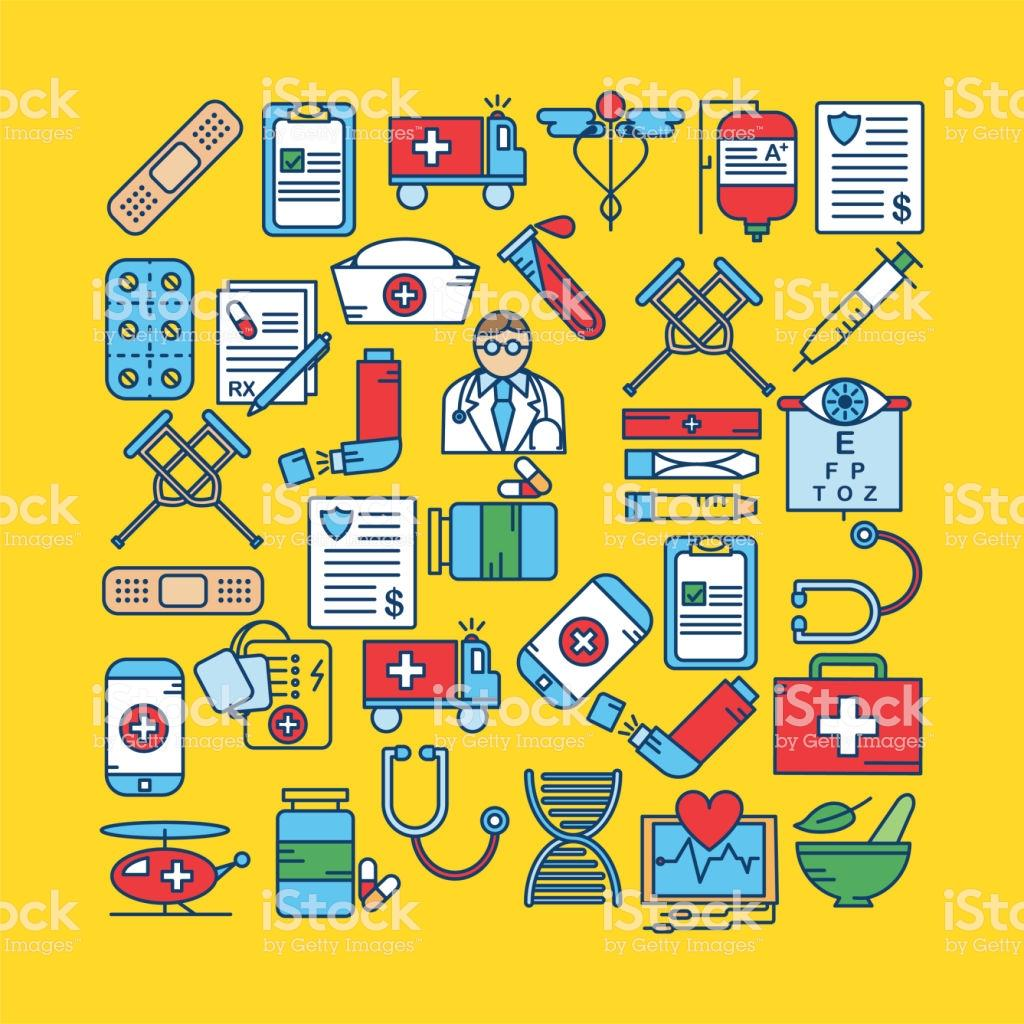bandage: (115, 102, 242, 239), (105, 560, 264, 621)
